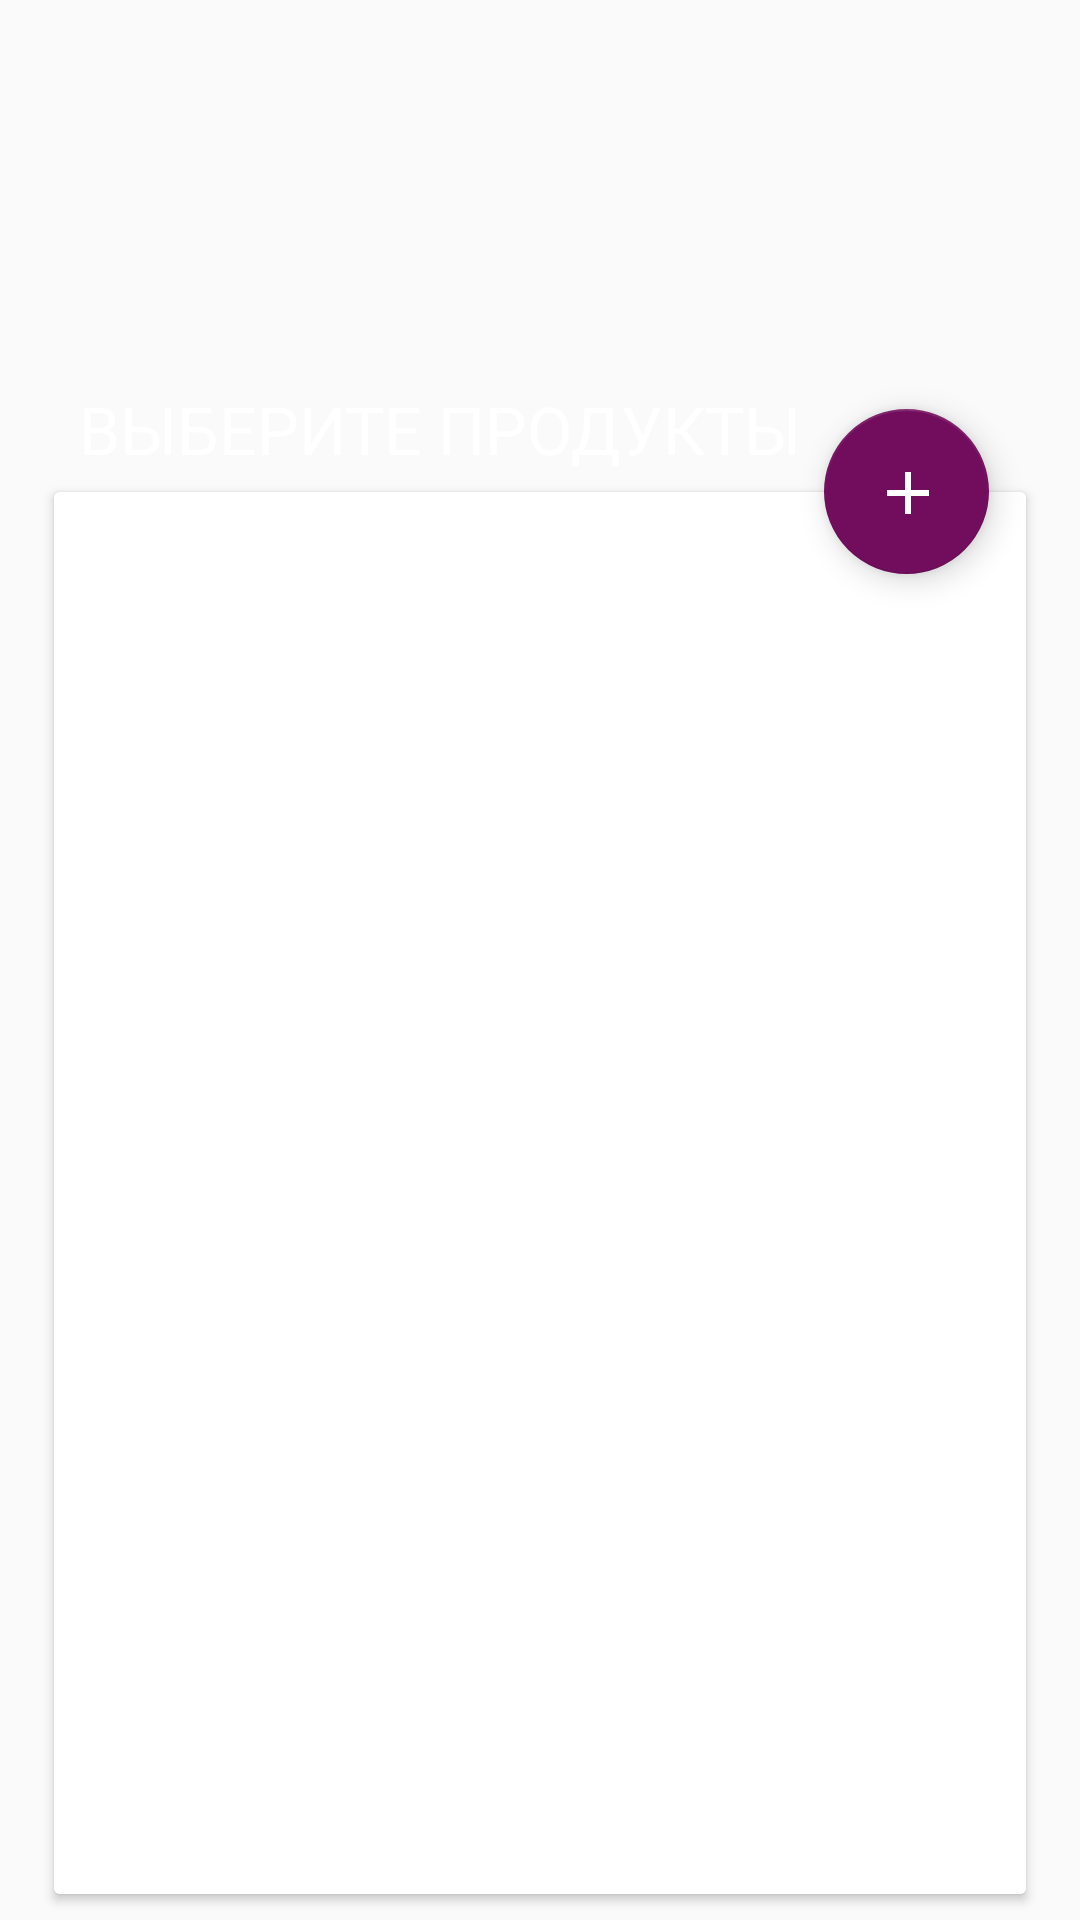

Named icons in this screenshot (1080px×1920px) and their bounding boxes, (x1, y1, x2, y2):
add float: (824, 409, 989, 574)
